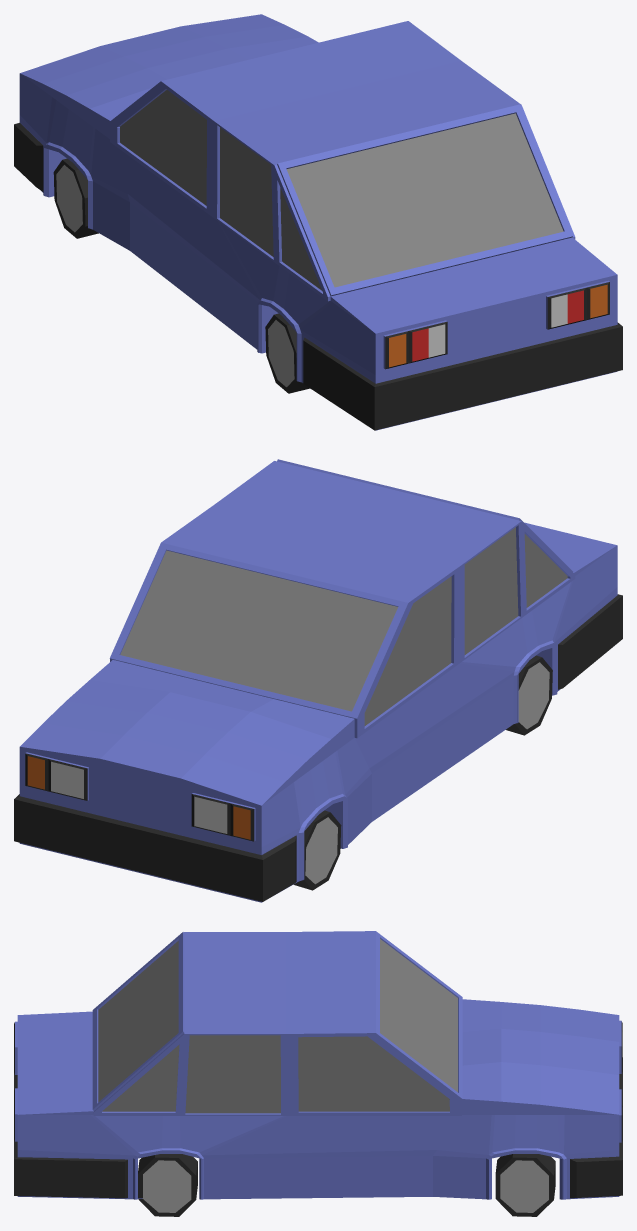
Rendered from Car1BlueColoured.fbx.
The picture shows the model from 3 angles, top to bottom: view 1: azimuth 30°, elevation 25°; view 2: azimuth 150°, elevation 25°; view 3: azimuth 270°, elevation 25°; orthographic projection. The views are drawn at different scales.
Visible parts, largest first — view 1: Cube; view 2: Cube, Cube.006, Cube.005; view 3: Cube.
Boxes of the visible parts, x1,y1,x2,y2 form: Cube: [14, 14, 622, 430]; Cube: [14, 459, 622, 902]; Cube.006: [191, 793, 255, 841]; Cube.005: [25, 752, 88, 800]; Cube: [14, 931, 622, 1216].
Bounding box in the file's own units: 250 × 200 × 600.
